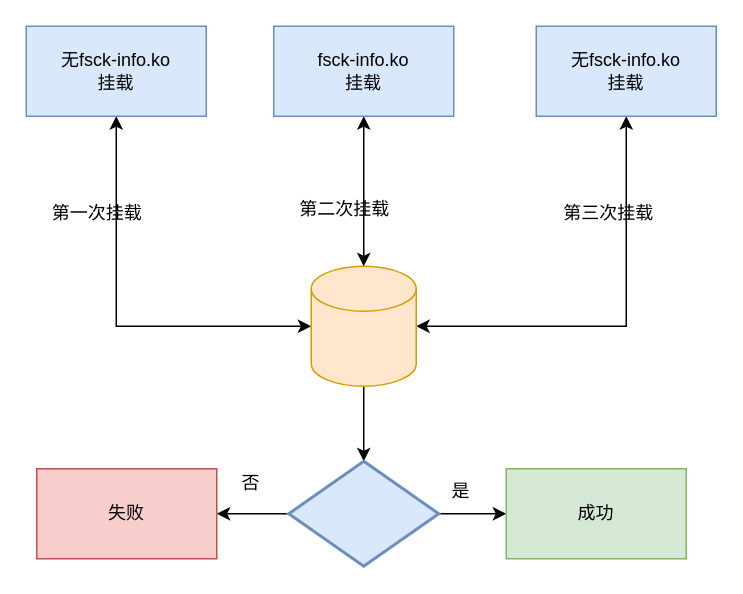
This 743x594 diagram has some shape labels left out. Here are the shapes that lost their labels. From the top down, the box of each, then its label:
(310, 265, 416, 386): f2fs文件系统
(286, 459, 440, 567): 是否一致？
